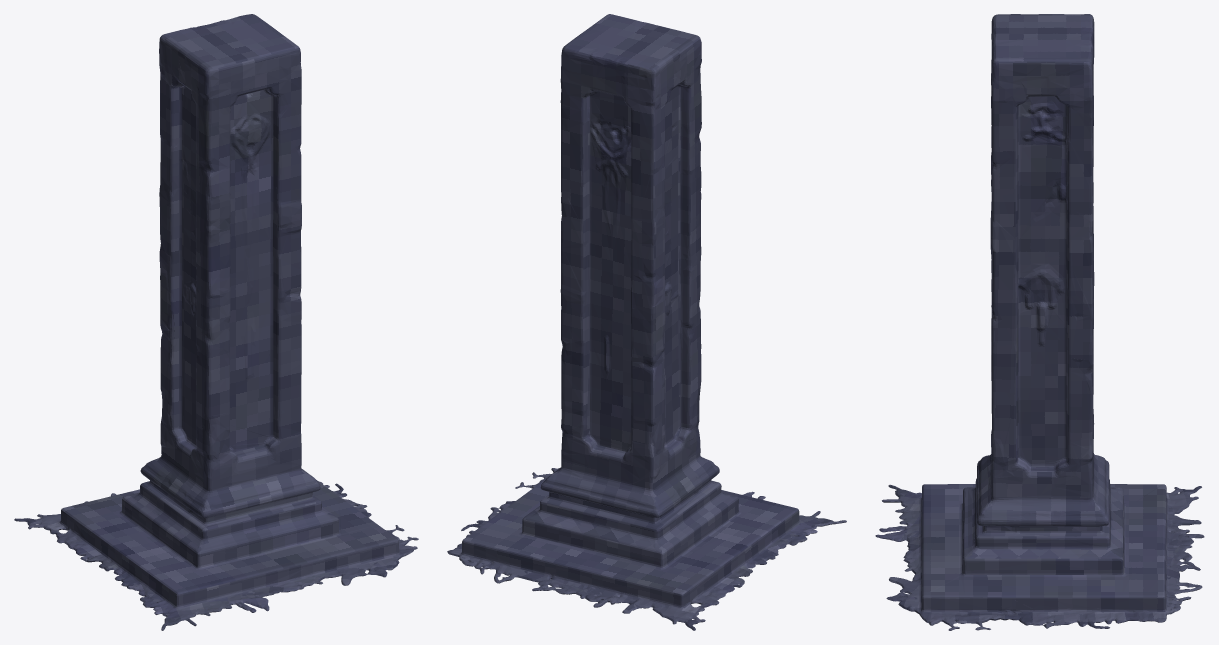
The model's file is weathered-monolith-pillar-generated-2026-04-19T23-39-39-599Z.medium.glb.
3 views of the same model, side by side, from view 1: azimuth 30°, elevation 25°; view 2: azimuth 150°, elevation 25°; view 3: azimuth 270°, elevation 25° (orthographic). The views are drawn at different scales.
Parts seen in each view (by area): view 1: temp_mesh.ply; view 2: temp_mesh.ply; view 3: temp_mesh.ply.
Part boxes in pixels (left/top/right/bottom): temp_mesh.ply: left=14, top=14, right=418, bottom=630; temp_mesh.ply: left=447, top=14, right=846, bottom=630; temp_mesh.ply: left=875, top=14, right=1204, bottom=630.
Size of the model in its own units: 1.18 by 1.97 by 1.13.
1 material, 1 textured.
